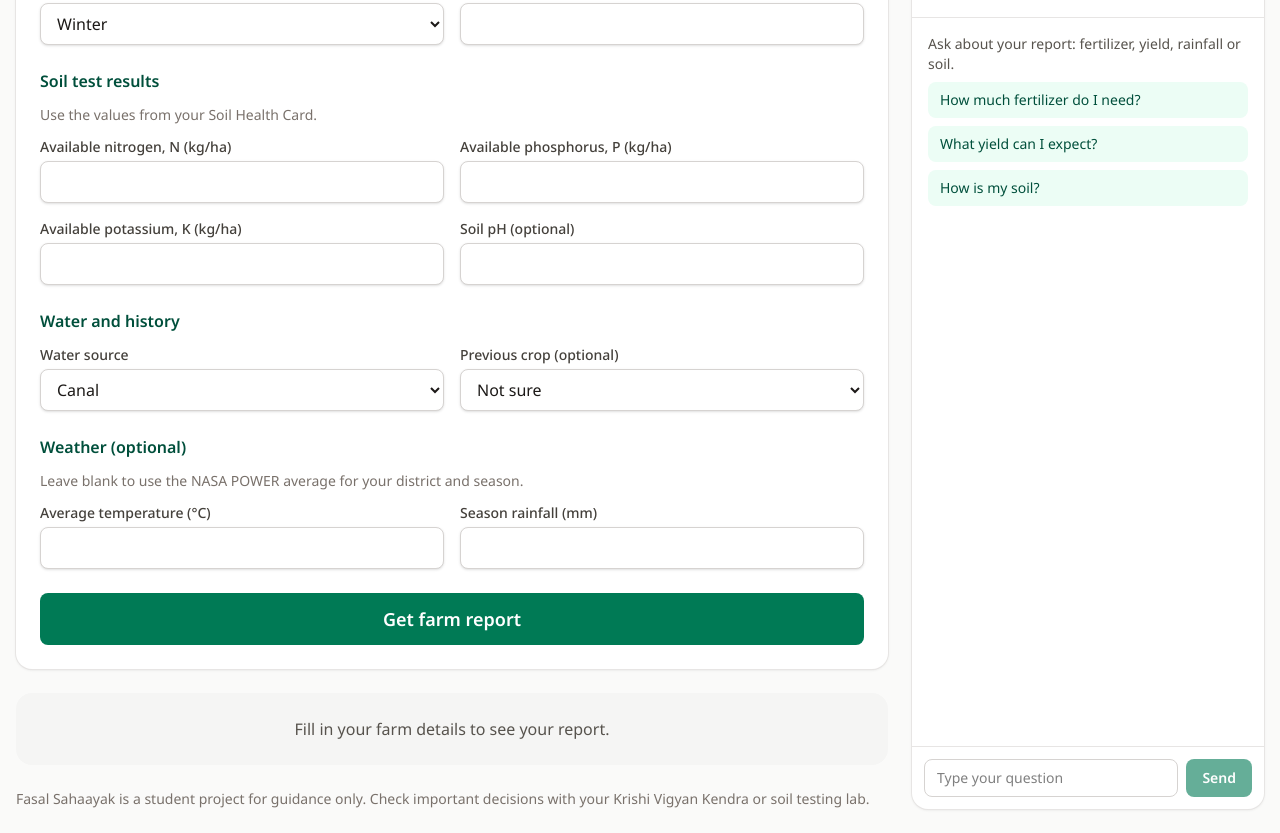
it: chat › sends the question with the language and shows the reply
(page scrolled)
Type "How much urea?" into the field labelled "Type your question". click: (1051, 778)
box: x1=924 y1=759 x2=1178 y2=797
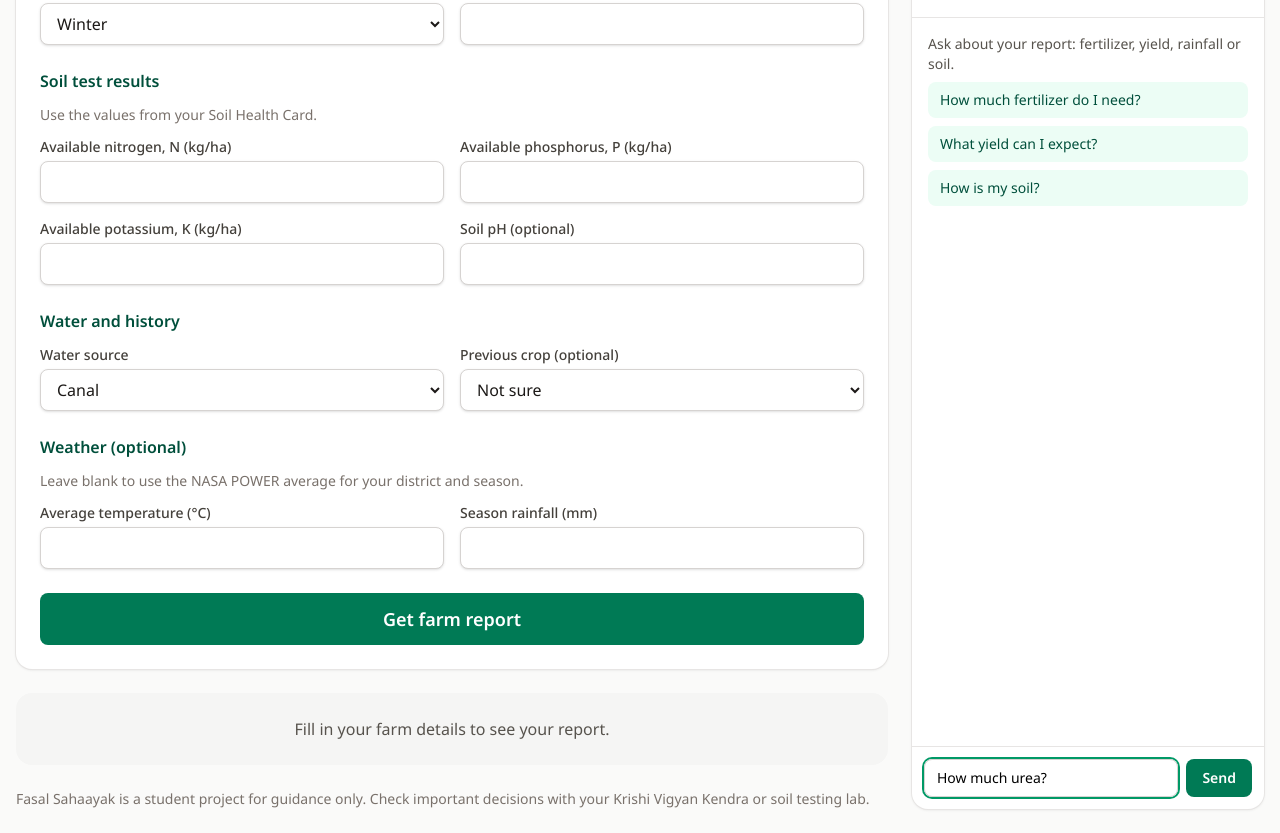
Click the button "Send". click: (1219, 778)
box: x1=1186 y1=759 x2=1252 y2=797
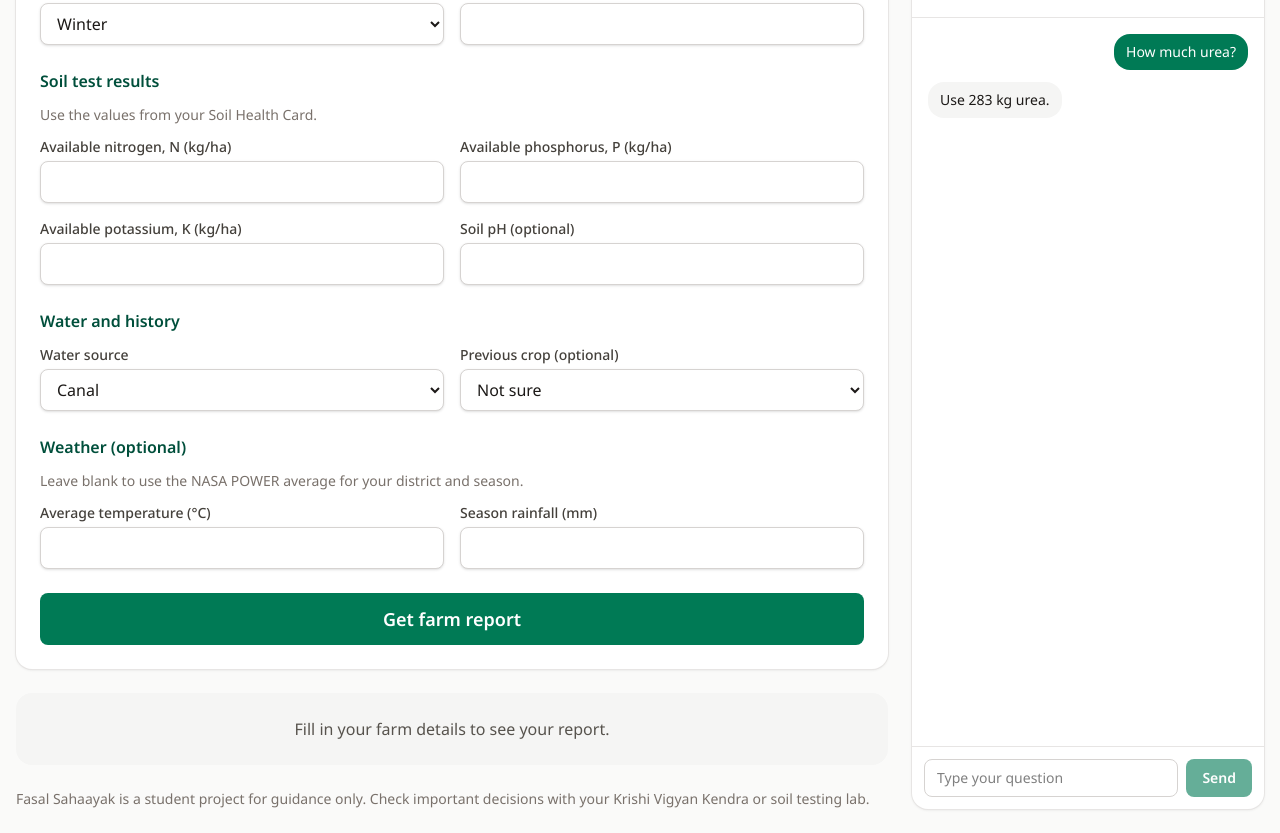
Expected: the text "Use 283 kg urea." is shown, x1=928 y1=82 x2=1062 y2=118
